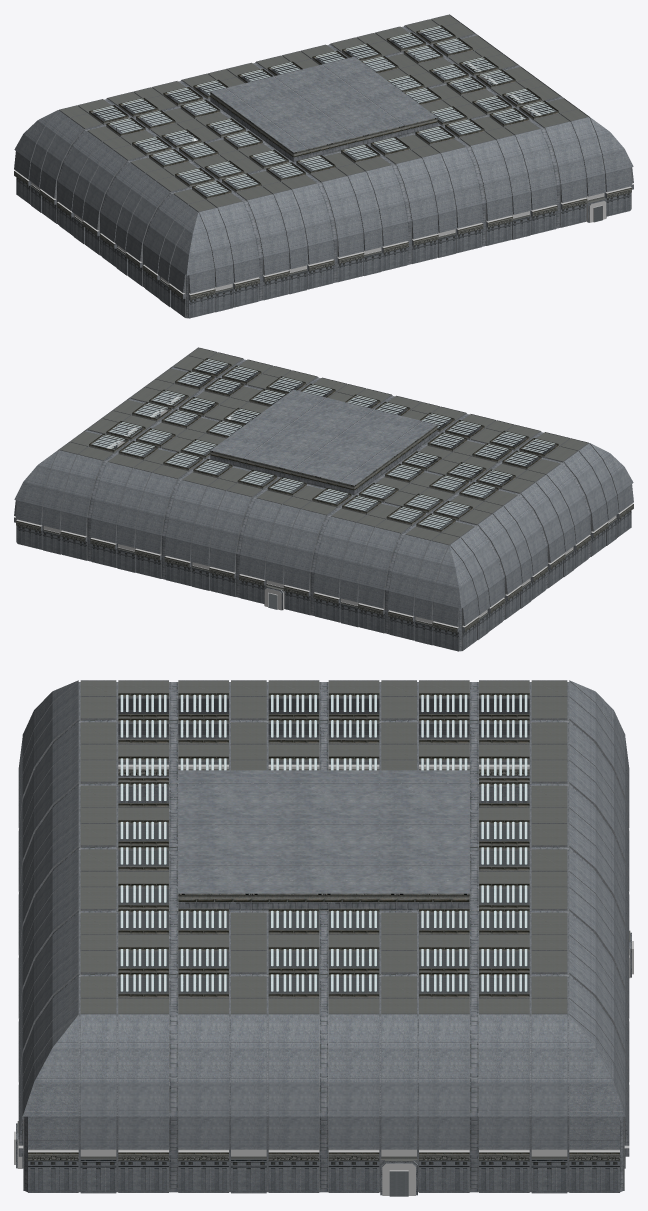
Rendered from poi_all_impl_bunker_warren_s01_r69_hugeroom69_mesh_r69.fbx.
3 views of the same model, one above another, from view 1: azimuth 30°, elevation 25°; view 2: azimuth 150°, elevation 25°; view 3: azimuth 270°, elevation 25° (orthographic). The views are drawn at different scales.
Parts seen in each view (by area): view 1: mesh_node; view 2: mesh_node; view 3: mesh_node.
Part boxes in pixels (<box>): mesh_node: <box>14,14,633,318</box>; mesh_node: <box>14,347,633,651</box>; mesh_node: <box>14,680,633,1196</box>.
Bounding box in the file's own units: 97.5 × 20 × 66.
